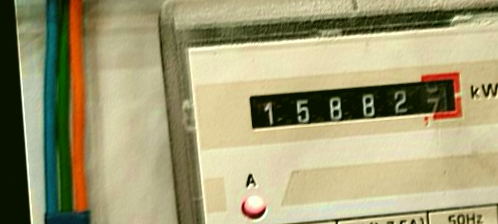1: (261, 98, 277, 127)
2: (392, 87, 410, 116)
5: (293, 96, 313, 124)
7: (424, 94, 442, 113)
8: (326, 94, 344, 123), (360, 90, 377, 119)
screen: (235, 63, 474, 142)
